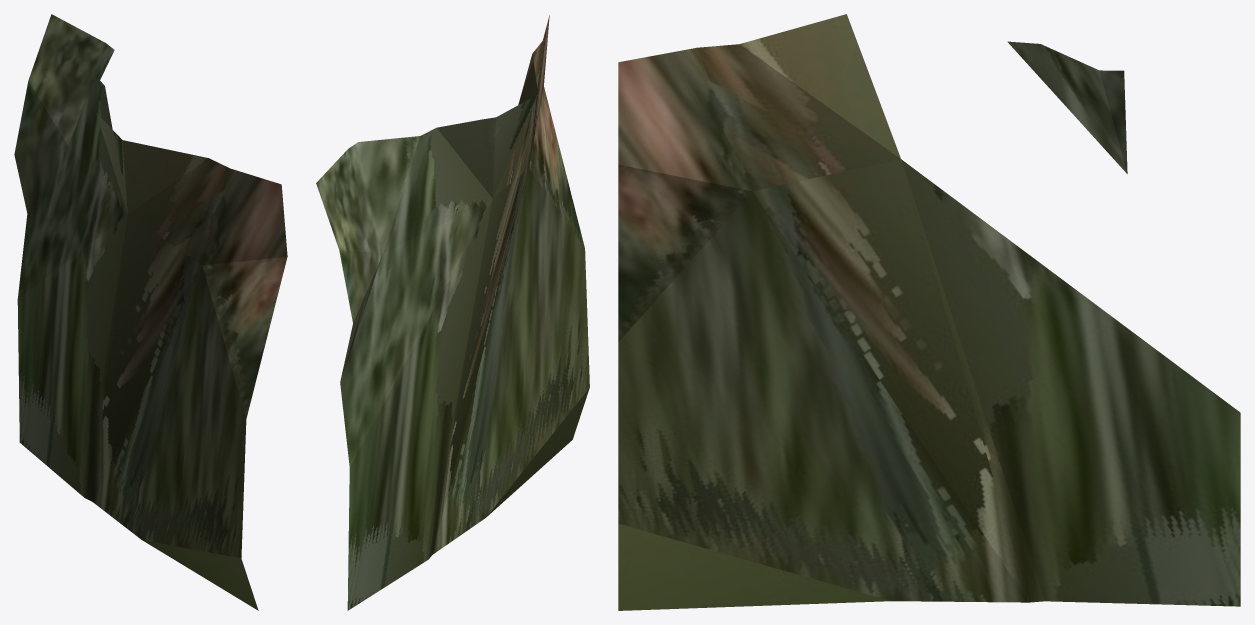
3 renders of one model, left to right at view 1: azimuth 30°, elevation 25°; view 2: azimuth 150°, elevation 25°; view 3: azimuth 270°, elevation 25°, orthographic. The views are drawn at different scales.
Bounding box in the file's own units: 0.6372 × 2.95 × 2.95.
Materials: 3 (3 with a texture image).
